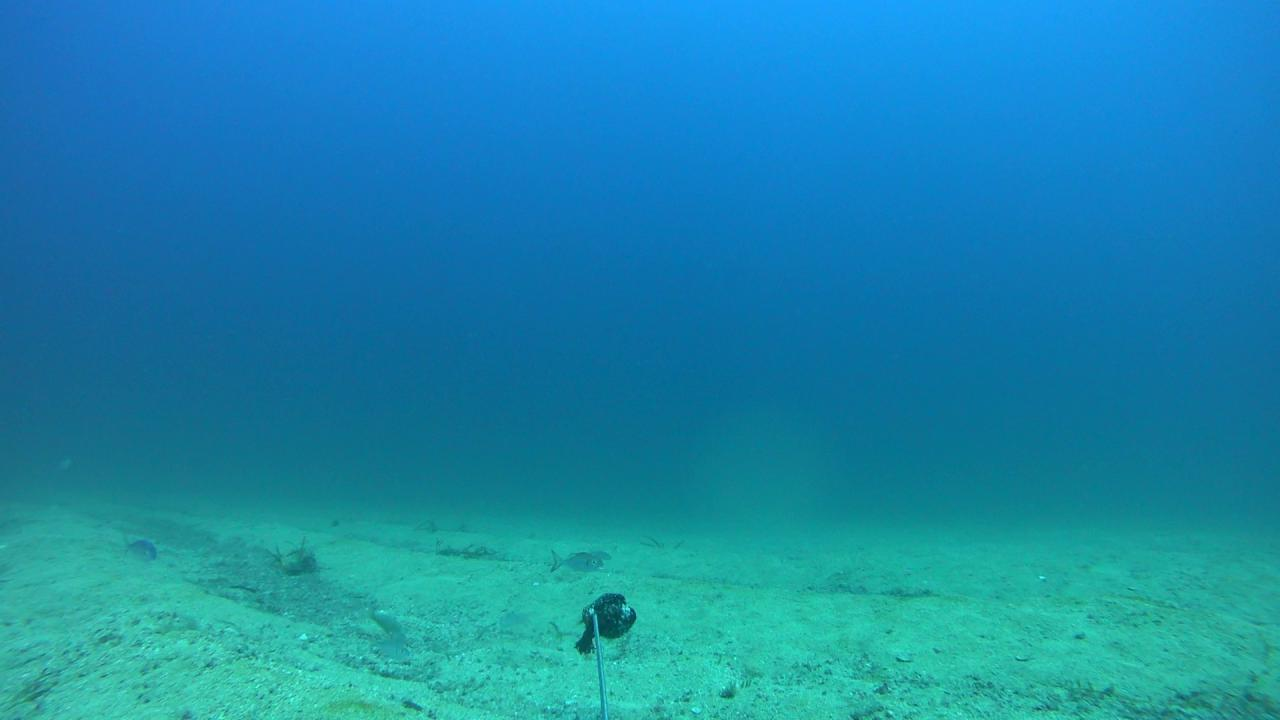pagellus: (116, 531, 164, 563), (550, 550, 603, 574), (496, 610, 539, 636), (369, 642, 412, 664)
raor: (366, 599, 409, 642)
